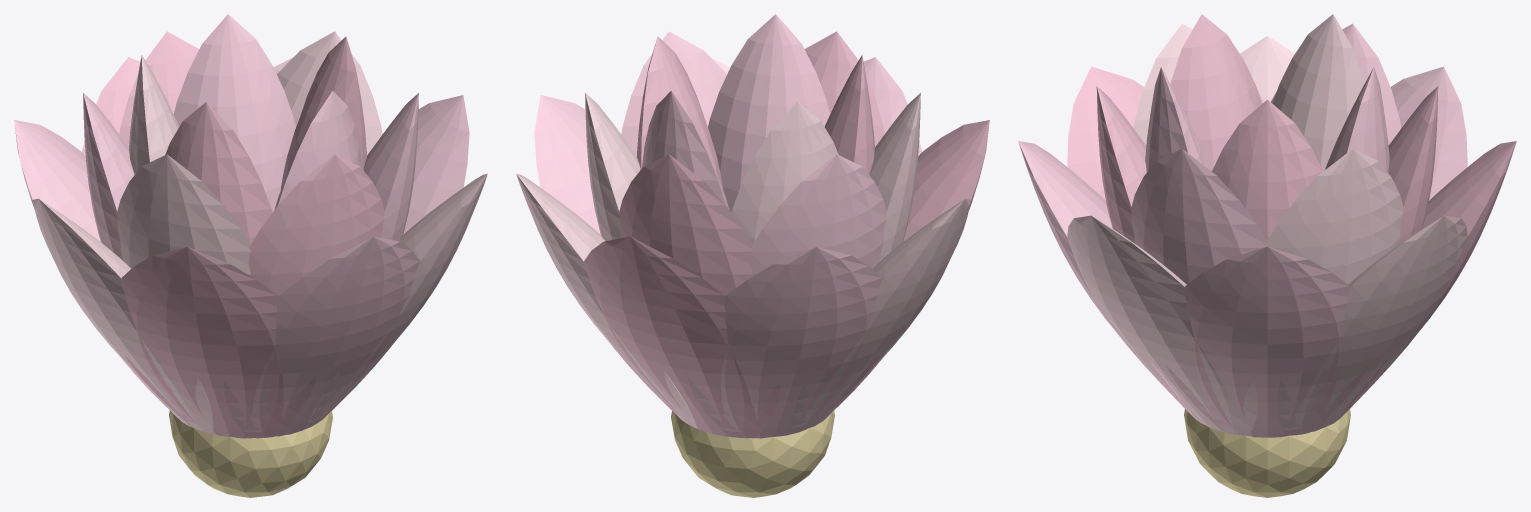
Rendered from lotus_pink.glb.
3 views of the same model, side by side, from view 1: azimuth 30°, elevation 25°; view 2: azimuth 150°, elevation 25°; view 3: azimuth 270°, elevation 25° (orthographic).
Visible parts, largest first — view 1: lotus_pink_06, lotus_pink_07, lotus_pink_13, lotus_pink_16, lotus_pink_12, lotus_pink_05, lotus_pink_00, lotus_pink_18, lotus_pink_08, lotus_pink_01, lotus_pink_04, lotus_pink_11 (+7 smaller); view 2: lotus_pink_04, lotus_pink_03, lotus_pink_19, lotus_pink_10, lotus_pink_11, lotus_pink_05, lotus_pink_00, lotus_pink_17, lotus_pink_02, lotus_pink_01, lotus_pink_06, lotus_pink_12 (+7 smaller); view 3: lotus_pink_01, lotus_pink_08, lotus_pink_02, lotus_pink_14, lotus_pink_09, lotus_pink_00, lotus_pink_15, lotus_pink_17, lotus_pink_18, lotus_pink_07, lotus_pink_03, lotus_pink_10 (+8 smaller).
Boxes of the visible parts, x1=… form: lotus_pink_06: x1=121, y1=247, x2=316, y2=438; lotus_pink_07: x1=223, y1=236, x2=419, y2=438; lotus_pink_13: x1=248, y1=154, x2=384, y2=295; lotus_pink_16: x1=173, y1=14, x2=295, y2=212; lotus_pink_12: x1=117, y1=154, x2=250, y2=275; lotus_pink_05: x1=32, y1=198, x2=213, y2=433; lotus_pink_00: x1=169, y1=410, x2=332, y2=497; lotus_pink_18: x1=165, y1=102, x2=272, y2=243; lotus_pink_08: x1=306, y1=173, x2=487, y2=428; lotus_pink_01: x1=403, y1=95, x2=469, y2=234; lotus_pink_04: x1=14, y1=120, x2=169, y2=409; lotus_pink_11: x1=83, y1=93, x2=134, y2=260; lotus_pink_04: x1=687, y1=247, x2=882, y2=438; lotus_pink_03: x1=584, y1=236, x2=780, y2=438; lotus_pink_19: x1=708, y1=14, x2=830, y2=212; lotus_pink_10: x1=619, y1=154, x2=752, y2=295; lotus_pink_11: x1=750, y1=154, x2=886, y2=275; lotus_pink_05: x1=790, y1=198, x2=971, y2=433; lotus_pink_00: x1=671, y1=410, x2=834, y2=497; lotus_pink_17: x1=731, y1=102, x2=838, y2=243; lotus_pink_02: x1=516, y1=173, x2=697, y2=428; lotus_pink_01: x1=534, y1=95, x2=600, y2=234; lotus_pink_06: x1=834, y1=120, x2=989, y2=409; lotus_pink_12: x1=869, y1=93, x2=920, y2=261; lotus_pink_01: x1=1166, y1=246, x2=1368, y2=437; lotus_pink_08: x1=1067, y1=215, x2=1257, y2=435; lotus_pink_02: x1=1277, y1=215, x2=1467, y2=435; lotus_pink_14: x1=1131, y1=149, x2=1267, y2=284; lotus_pink_09: x1=1266, y1=149, x2=1403, y2=284; lotus_pink_00: x1=1184, y1=409, x2=1350, y2=497; lotus_pink_15: x1=1212, y1=99, x2=1322, y2=239; lotus_pink_17: x1=1272, y1=14, x2=1364, y2=171; lotus_pink_18: x1=1170, y1=14, x2=1262, y2=171; lotus_pink_07: x1=1018, y1=141, x2=1197, y2=420; lotus_pink_03: x1=1337, y1=141, x2=1516, y2=420; lotus_pink_10: x1=1388, y1=86, x2=1438, y2=244.
Bounding box in the file's own units: 0.863 × 0.8372 × 0.863.
